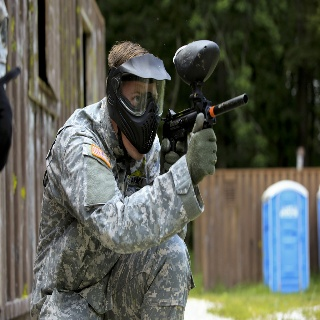rifle: (159, 38, 249, 133)
